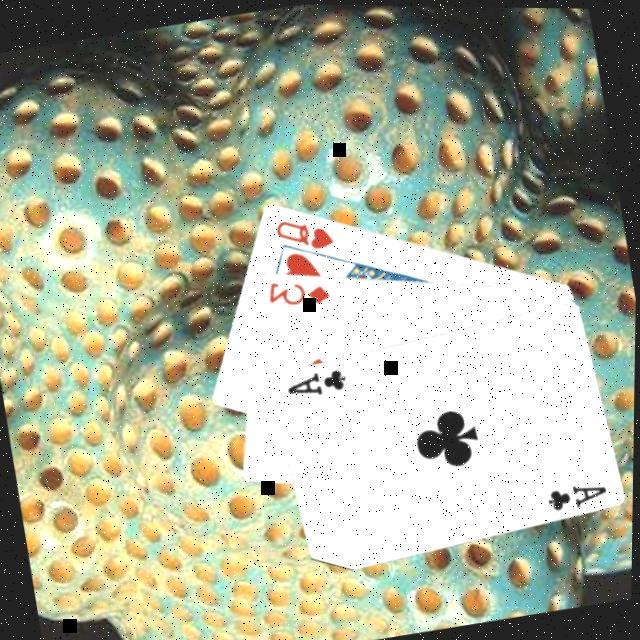3D: (260, 265, 334, 312)
AC: (282, 359, 350, 401), (541, 472, 611, 512)
QH: (268, 205, 338, 256)
